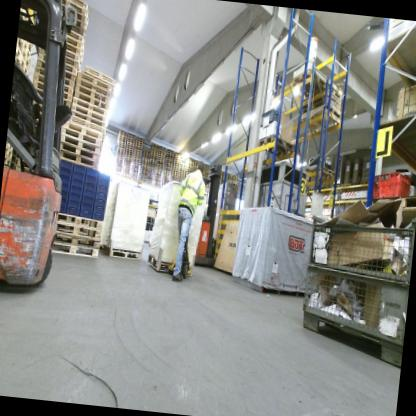forklift: (187, 157, 231, 268)
pallet: (293, 66, 345, 103), (257, 132, 296, 160), (300, 102, 343, 127), (47, 0, 91, 24), (33, 64, 75, 88), (50, 0, 90, 25), (31, 78, 74, 101), (375, 192, 416, 216), (52, 219, 101, 239), (38, 46, 80, 69), (36, 52, 78, 75), (34, 58, 76, 81), (59, 124, 101, 147), (52, 231, 101, 250), (65, 113, 107, 135), (53, 210, 104, 228), (55, 3, 89, 30), (62, 119, 104, 140), (300, 96, 342, 117), (99, 241, 141, 261), (82, 64, 117, 88), (73, 76, 111, 98), (50, 242, 99, 259), (58, 141, 99, 161), (58, 133, 100, 152), (75, 70, 112, 91), (58, 149, 98, 168), (144, 249, 173, 275), (73, 83, 110, 103), (71, 95, 108, 115), (301, 92, 337, 112), (73, 91, 109, 110), (71, 102, 107, 121), (62, 27, 87, 54), (70, 108, 107, 126), (306, 165, 339, 185), (61, 13, 88, 35), (64, 19, 87, 42), (63, 42, 84, 67), (64, 34, 84, 60), (31, 97, 71, 110), (64, 51, 83, 70), (19, 57, 30, 75), (11, 155, 27, 167), (10, 162, 26, 174), (20, 48, 30, 67), (22, 41, 31, 60), (15, 43, 23, 60), (4, 147, 14, 160), (24, 38, 33, 52), (16, 36, 24, 50), (330, 183, 340, 194), (4, 156, 13, 168), (6, 138, 15, 150), (11, 149, 22, 158), (340, 181, 349, 189), (360, 180, 367, 188), (163, 154, 173, 159), (150, 142, 158, 148), (163, 159, 172, 164), (349, 182, 357, 187), (142, 153, 150, 158), (149, 145, 158, 149), (149, 146, 158, 150), (149, 150, 158, 154), (164, 152, 173, 156), (126, 141, 134, 145), (126, 137, 134, 141), (127, 132, 135, 136), (132, 159, 140, 163), (142, 149, 150, 153), (140, 164, 148, 168), (148, 154, 156, 158), (148, 158, 156, 162), (147, 162, 155, 166), (157, 157, 165, 161), (155, 163, 163, 167), (126, 145, 133, 149), (125, 154, 132, 158), (127, 135, 134, 139), (135, 138, 142, 142), (134, 147, 141, 151), (157, 153, 164, 157), (141, 152, 150, 155), (149, 149, 158, 152), (147, 161, 156, 164), (155, 161, 164, 164), (163, 157, 172, 160), (126, 140, 134, 143), (133, 150, 141, 153), (133, 152, 141, 155), (118, 137, 126, 140), (116, 150, 124, 153), (141, 156, 149, 159), (141, 158, 149, 161), (159, 145, 165, 149), (156, 159, 164, 162), (171, 165, 179, 168), (171, 169, 179, 172), (165, 149, 173, 152), (163, 163, 171, 166), (163, 165, 171, 168), (163, 167, 171, 170), (126, 144, 133, 147), (126, 148, 133, 151), (125, 150, 132, 153), (135, 141, 142, 144), (134, 143, 141, 146), (133, 154, 140, 157), (133, 156, 140, 159), (119, 135, 126, 138), (119, 133, 126, 136), (118, 139, 125, 142), (118, 142, 125, 145), (118, 144, 125, 147), (117, 148, 124, 151), (141, 162, 148, 165), (173, 157, 180, 160), (172, 159, 179, 162), (148, 153, 158, 155), (148, 157, 157, 159), (158, 150, 164, 153), (164, 151, 173, 153), (179, 167, 185, 170), (187, 165, 193, 168), (132, 158, 140, 160), (117, 146, 125, 148), (141, 161, 149, 163), (172, 162, 180, 164), (171, 164, 179, 166), (171, 168, 179, 170), (179, 169, 184, 172), (179, 173, 184, 176), (188, 157, 193, 160), (125, 153, 132, 155), (124, 157, 131, 159), (134, 146, 141, 148), (158, 148, 165, 150), (157, 152, 164, 154), (157, 156, 164, 158), (173, 156, 180, 158), (179, 164, 185, 166), (179, 166, 185, 168), (178, 172, 184, 174), (187, 162, 193, 164), (187, 164, 193, 166), (186, 169, 192, 171), (194, 159, 198, 162), (179, 176, 184, 178), (188, 160, 193, 162), (187, 168, 192, 170), (194, 165, 197, 168), (193, 167, 196, 170), (193, 169, 196, 172), (174, 154, 178, 156), (186, 171, 190, 173), (194, 162, 198, 164), (194, 164, 197, 166)
pallet_truck: (168, 182, 199, 282)
stillage: (295, 213, 414, 367)
